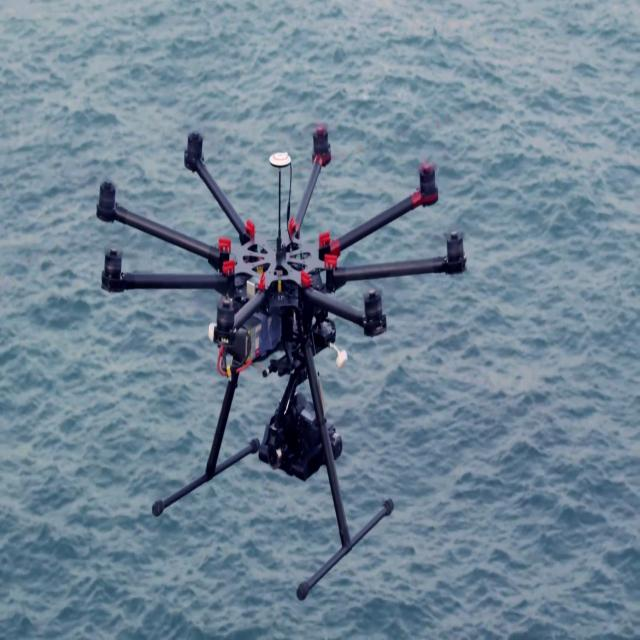drone: (52, 31, 514, 640)
